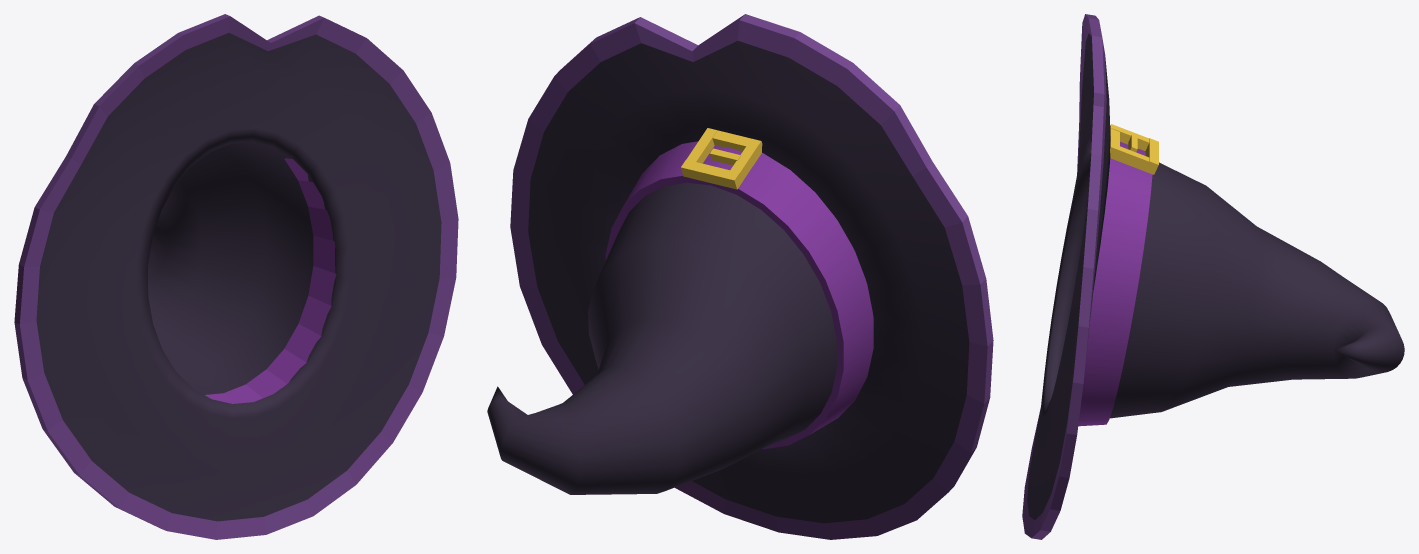
File: Witch Hat-DT56K1_6.glb
3 views of the same model, side by side, from view 1: azimuth 30°, elevation 25°; view 2: azimuth 150°, elevation 25°; view 3: azimuth 270°, elevation 25° (orthographic). The views are drawn at different scales.
Parts seen in each view (by area): view 1: Witch_Hat_Fitted.001; view 2: Witch_Hat_Fitted.001; view 3: Witch_Hat_Fitted.001.
Boxes of the visible parts, x1,y1,x2,y2 form: Witch_Hat_Fitted.001: (14,14,458,539); Witch_Hat_Fitted.001: (487,14,993,539); Witch_Hat_Fitted.001: (1022,14,1404,539).
Bounding box in the file's own units: 0.464 × 0.5019 × 0.3608.
